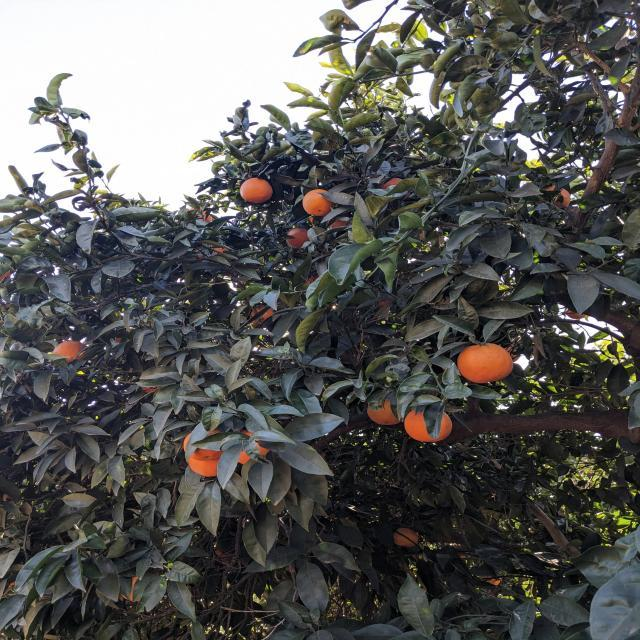Jeruk Sudah Matang: (457, 342, 514, 382), (233, 424, 289, 463), (402, 406, 455, 446), (368, 385, 410, 428), (184, 424, 234, 460), (48, 339, 90, 371), (186, 450, 229, 480), (237, 175, 275, 205), (311, 207, 357, 229), (540, 184, 576, 212), (300, 187, 334, 215), (242, 302, 280, 327), (192, 237, 228, 262), (379, 178, 418, 200), (140, 368, 172, 394), (212, 541, 242, 566), (286, 226, 316, 250), (391, 526, 426, 546), (190, 208, 220, 228), (0, 257, 20, 286), (486, 570, 504, 589)
